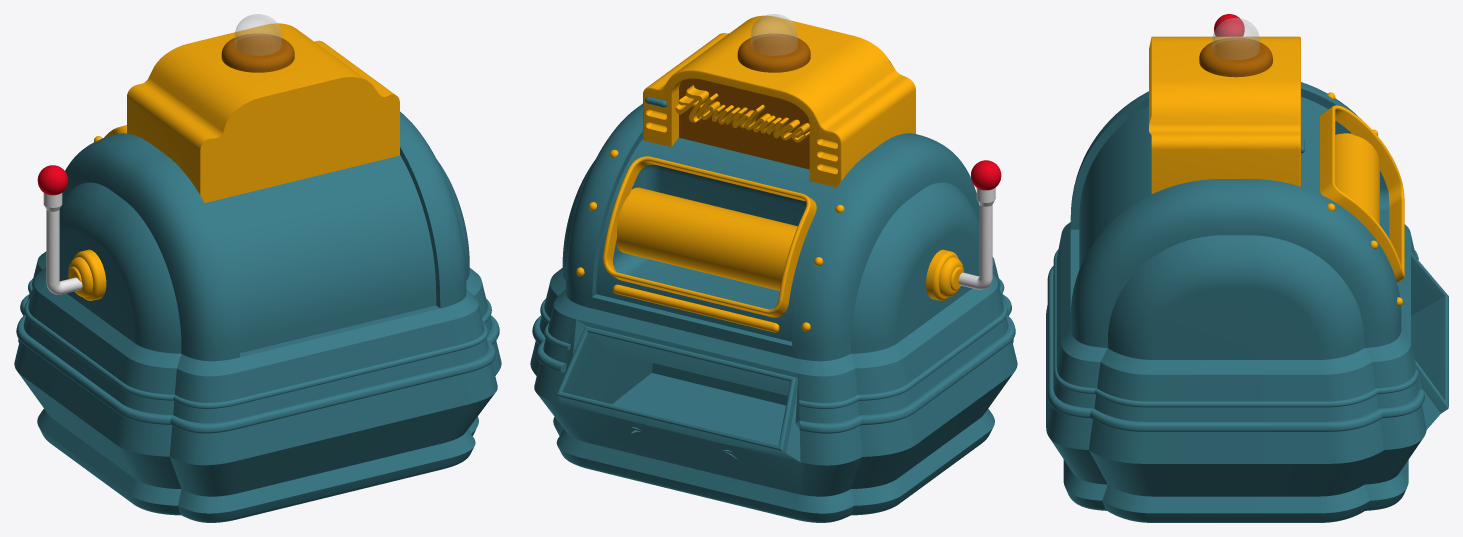
Rendered from Machine.glb.
3 renders of one model, left to right at view 1: azimuth 30°, elevation 25°; view 2: azimuth 150°, elevation 25°; view 3: azimuth 270°, elevation 25°, orthographic.
Visible parts, largest first — view 1: Plane.002, Cylinder.007, Sphere.002; view 2: Plane.002, Cylinder.007, Sphere.002; view 3: Plane.002, Sphere.002.
Part boxes in pixels (x1,y1,x2,y2): Plane.002: (14, 14, 501, 522); Cylinder.007: (43, 193, 82, 294); Sphere.002: (37, 165, 68, 195); Plane.002: (530, 14, 1017, 522); Cylinder.007: (958, 188, 995, 289); Sphere.002: (971, 160, 1001, 190); Plane.002: (1046, 18, 1448, 522); Sphere.002: (1214, 14, 1244, 36).
Bounding box in the file's own units: 1.99 × 1.94 × 1.67.
